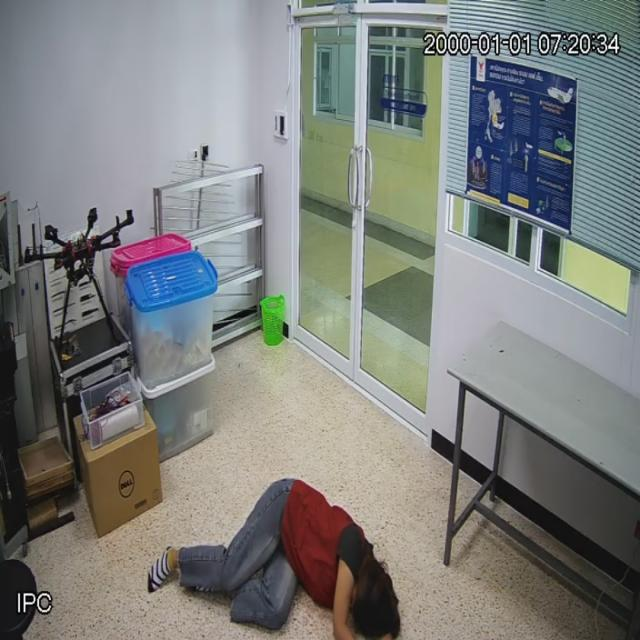fall: (140, 459, 413, 640)
